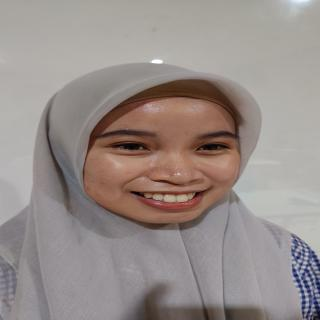Senang: (75, 83, 257, 233)
